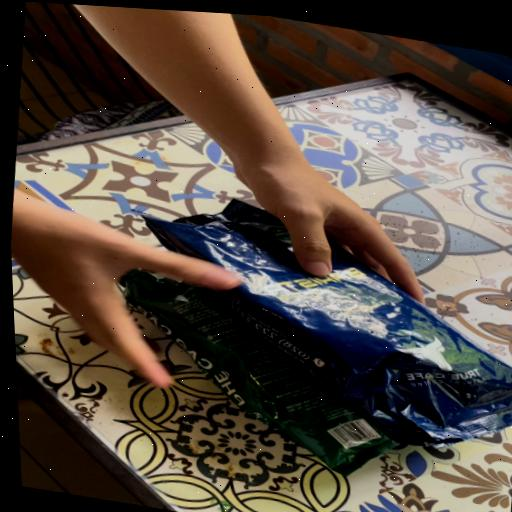cafe_hat: (143, 201, 512, 446)
cafe_xay: (125, 272, 397, 474)
